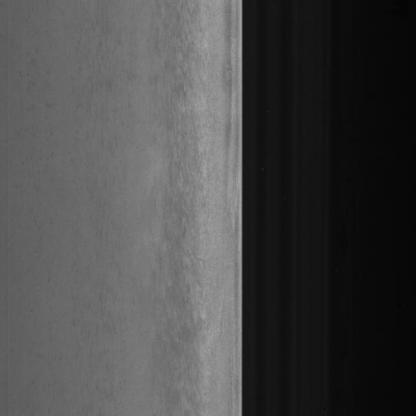silk_spot: (137, 79, 198, 381)
